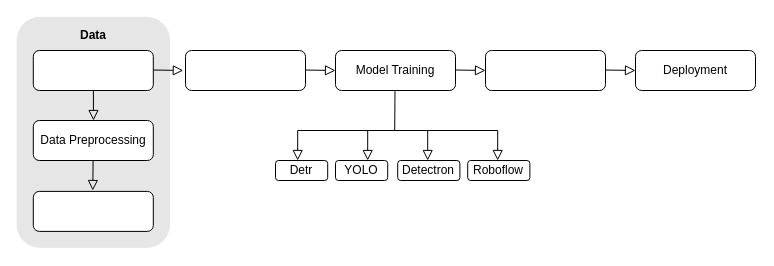
Image size: 774x266. Some labels were removed from this diagram. The shapes that lost their labels are listed below. From the top down, each one's box as (x1, y1, x2, y2) in pixels, then its label:
(32, 50, 153, 90): Data Collection
(184, 50, 306, 90): Image Annotation
(484, 50, 606, 90): Evaluation
(32, 190, 153, 231): Data Augmentation
